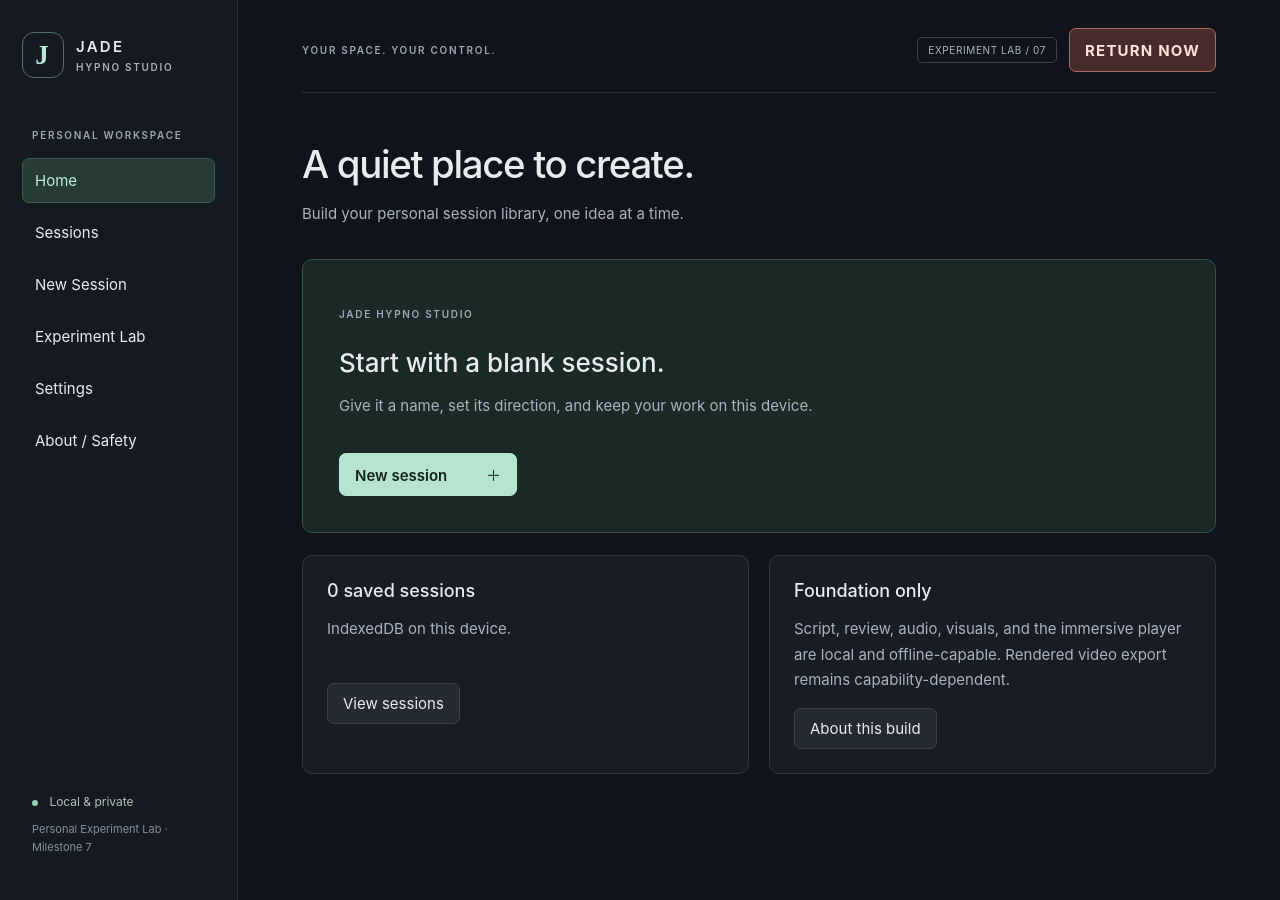
Test case: keeps the native window open if closing cannot save settings
Check: the button "New session ＋" is enabled, box [339,453,517,496]
Click the button "Settings" at x=118, y=388, box [22,366,215,411]
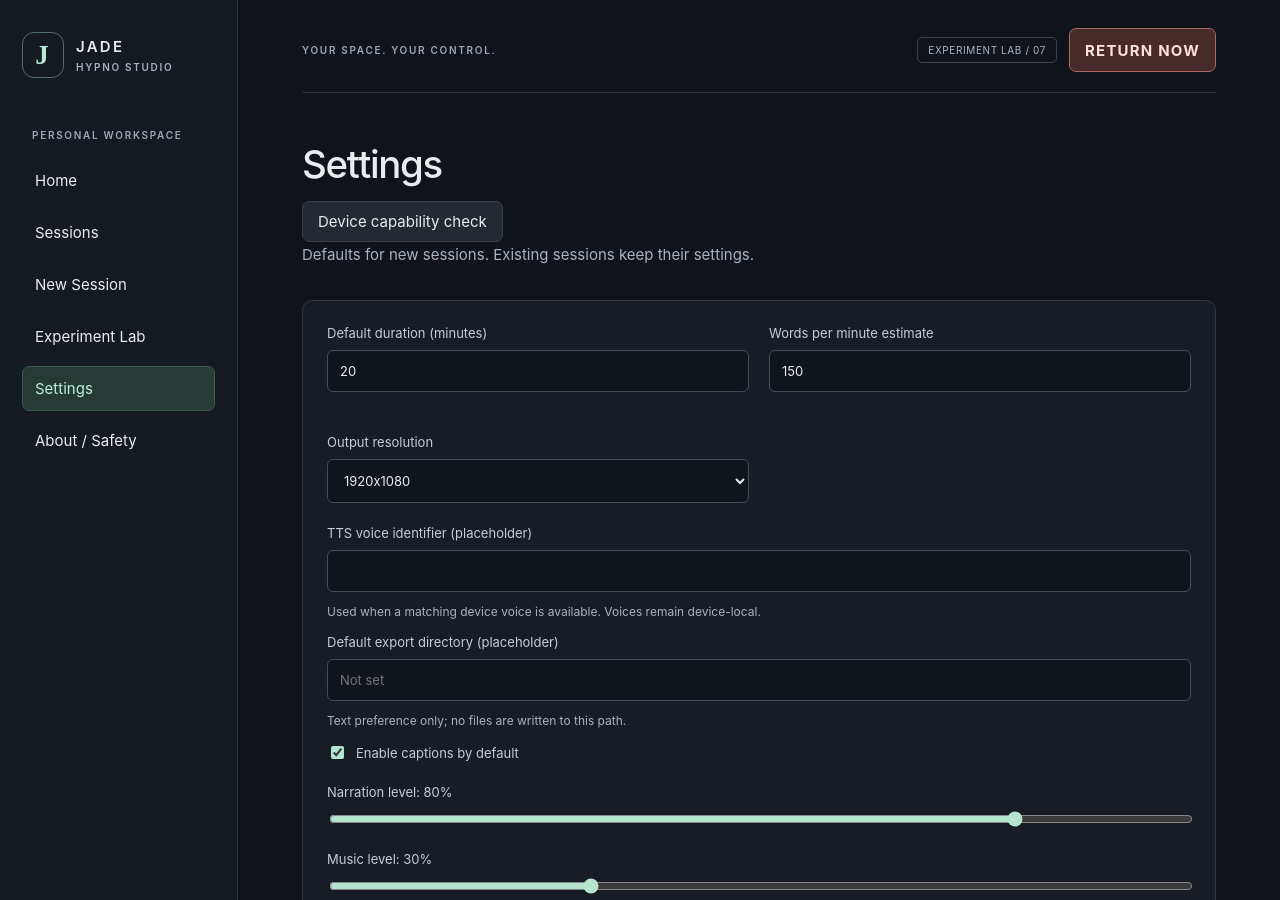
Type "Unsaved" into the field labelled "TTS voice identifier (placeholder)" at x=759, y=570, box [327,550,1191,592]
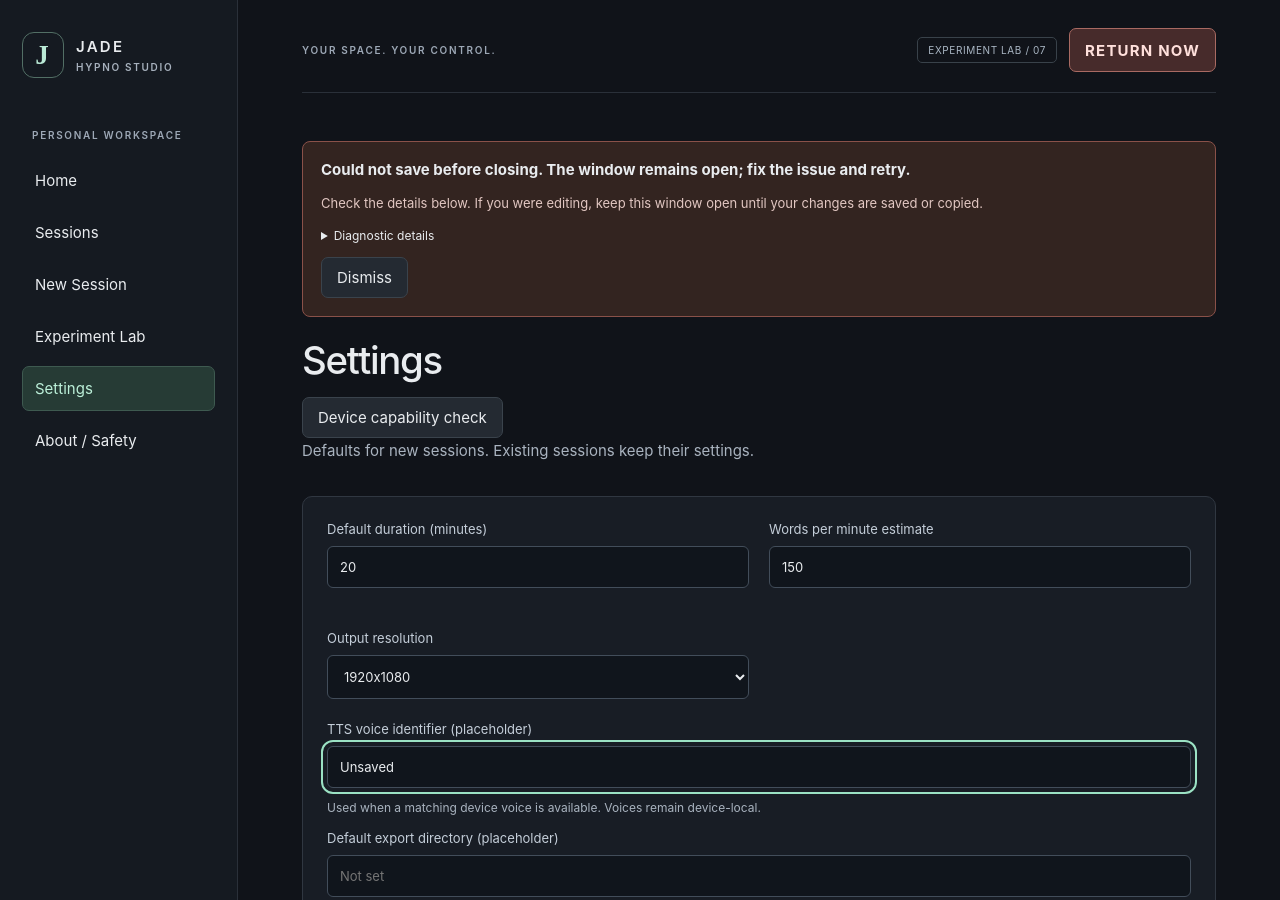
Check: the message shows "window remains open", box [321,160,911,179]
